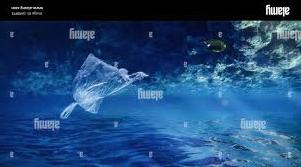Trash: (38, 41, 146, 114)
